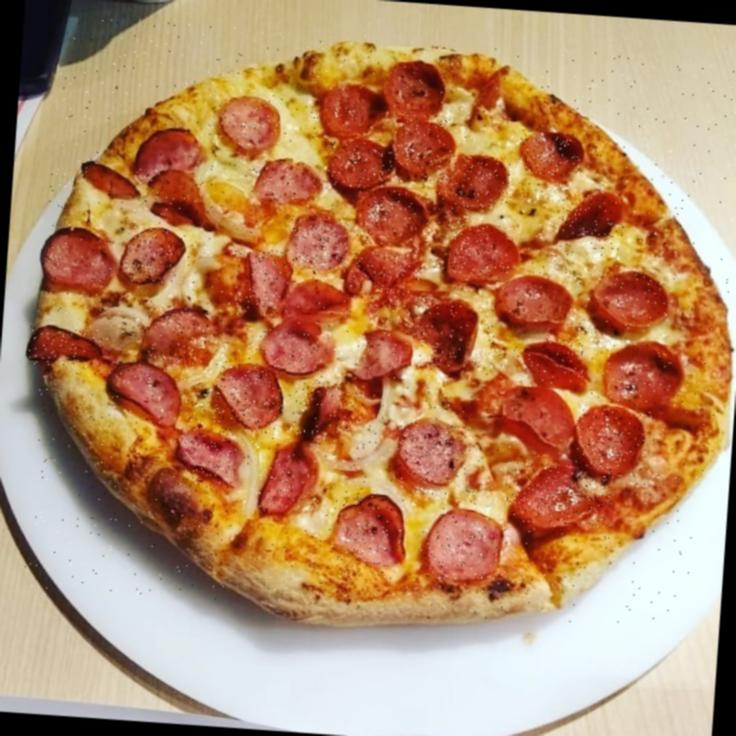Pepperoni: (504, 462, 614, 528), (420, 513, 516, 586), (330, 492, 405, 578), (112, 362, 192, 434), (574, 407, 654, 478), (607, 342, 693, 408), (212, 361, 286, 435), (290, 378, 365, 450), (170, 416, 240, 489), (501, 380, 571, 452), (492, 281, 574, 340), (396, 422, 472, 485), (207, 94, 282, 154), (389, 112, 453, 182), (411, 294, 472, 367), (46, 233, 114, 298), (596, 270, 670, 329), (557, 187, 623, 253), (148, 306, 220, 366), (354, 185, 422, 247), (442, 152, 514, 210), (328, 137, 396, 193), (258, 447, 318, 510), (230, 248, 284, 317), (250, 160, 320, 212), (134, 166, 204, 218), (28, 325, 108, 370), (327, 78, 382, 142), (286, 215, 348, 270), (522, 337, 586, 390), (132, 129, 207, 174), (448, 224, 512, 276), (122, 227, 176, 284), (517, 131, 582, 178), (349, 250, 406, 300), (255, 329, 328, 368), (288, 280, 347, 324), (386, 62, 438, 110), (358, 330, 408, 379), (76, 163, 134, 199)
Pizza: (22, 14, 736, 634)
